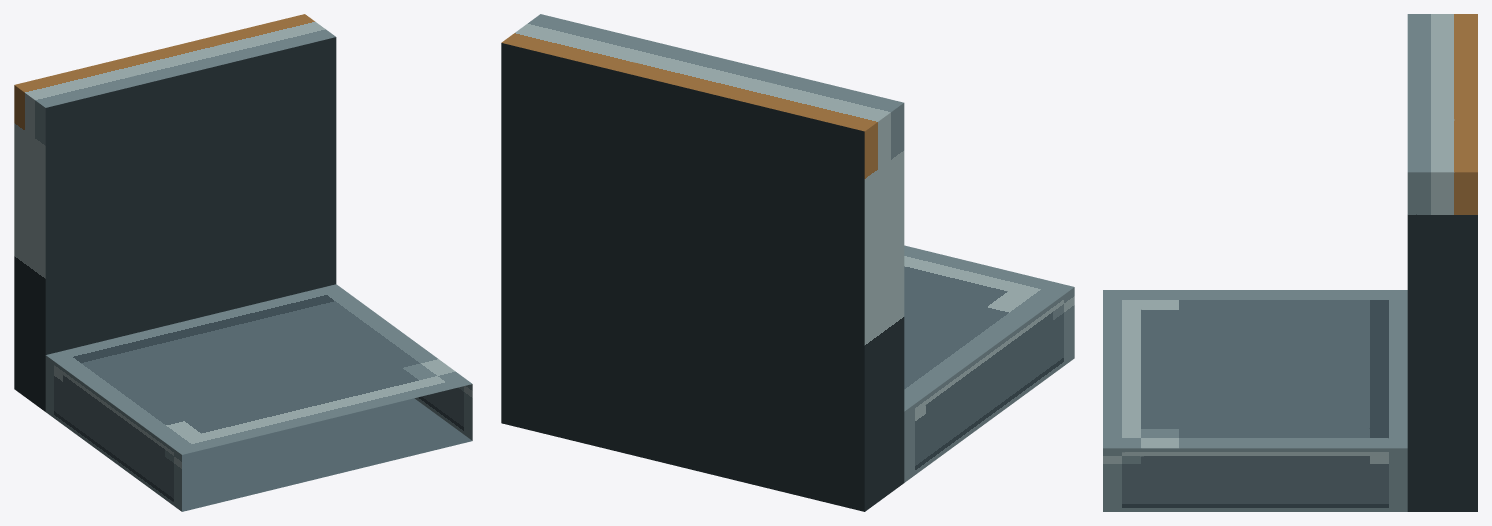
File: casing_d7_front_x0_y-3.obj
3 renders of one model, left to right at view 1: azimuth 30°, elevation 25°; view 2: azimuth 150°, elevation 25°; view 3: azimuth 270°, elevation 25°, orthographic. The views are drawn at different scales.
Parts seen in each view (by area): view 1: d7_front_x0_y-3; view 2: d7_front_x0_y-3; view 3: d7_front_x0_y-3.
Part boxes in pixels (x1,y1,x2,y2): d7_front_x0_y-3: (14, 14, 472, 511); d7_front_x0_y-3: (501, 14, 1074, 511); d7_front_x0_y-3: (1103, 14, 1477, 511).
Size of the model in its own units: 1 by 1 by 1.
